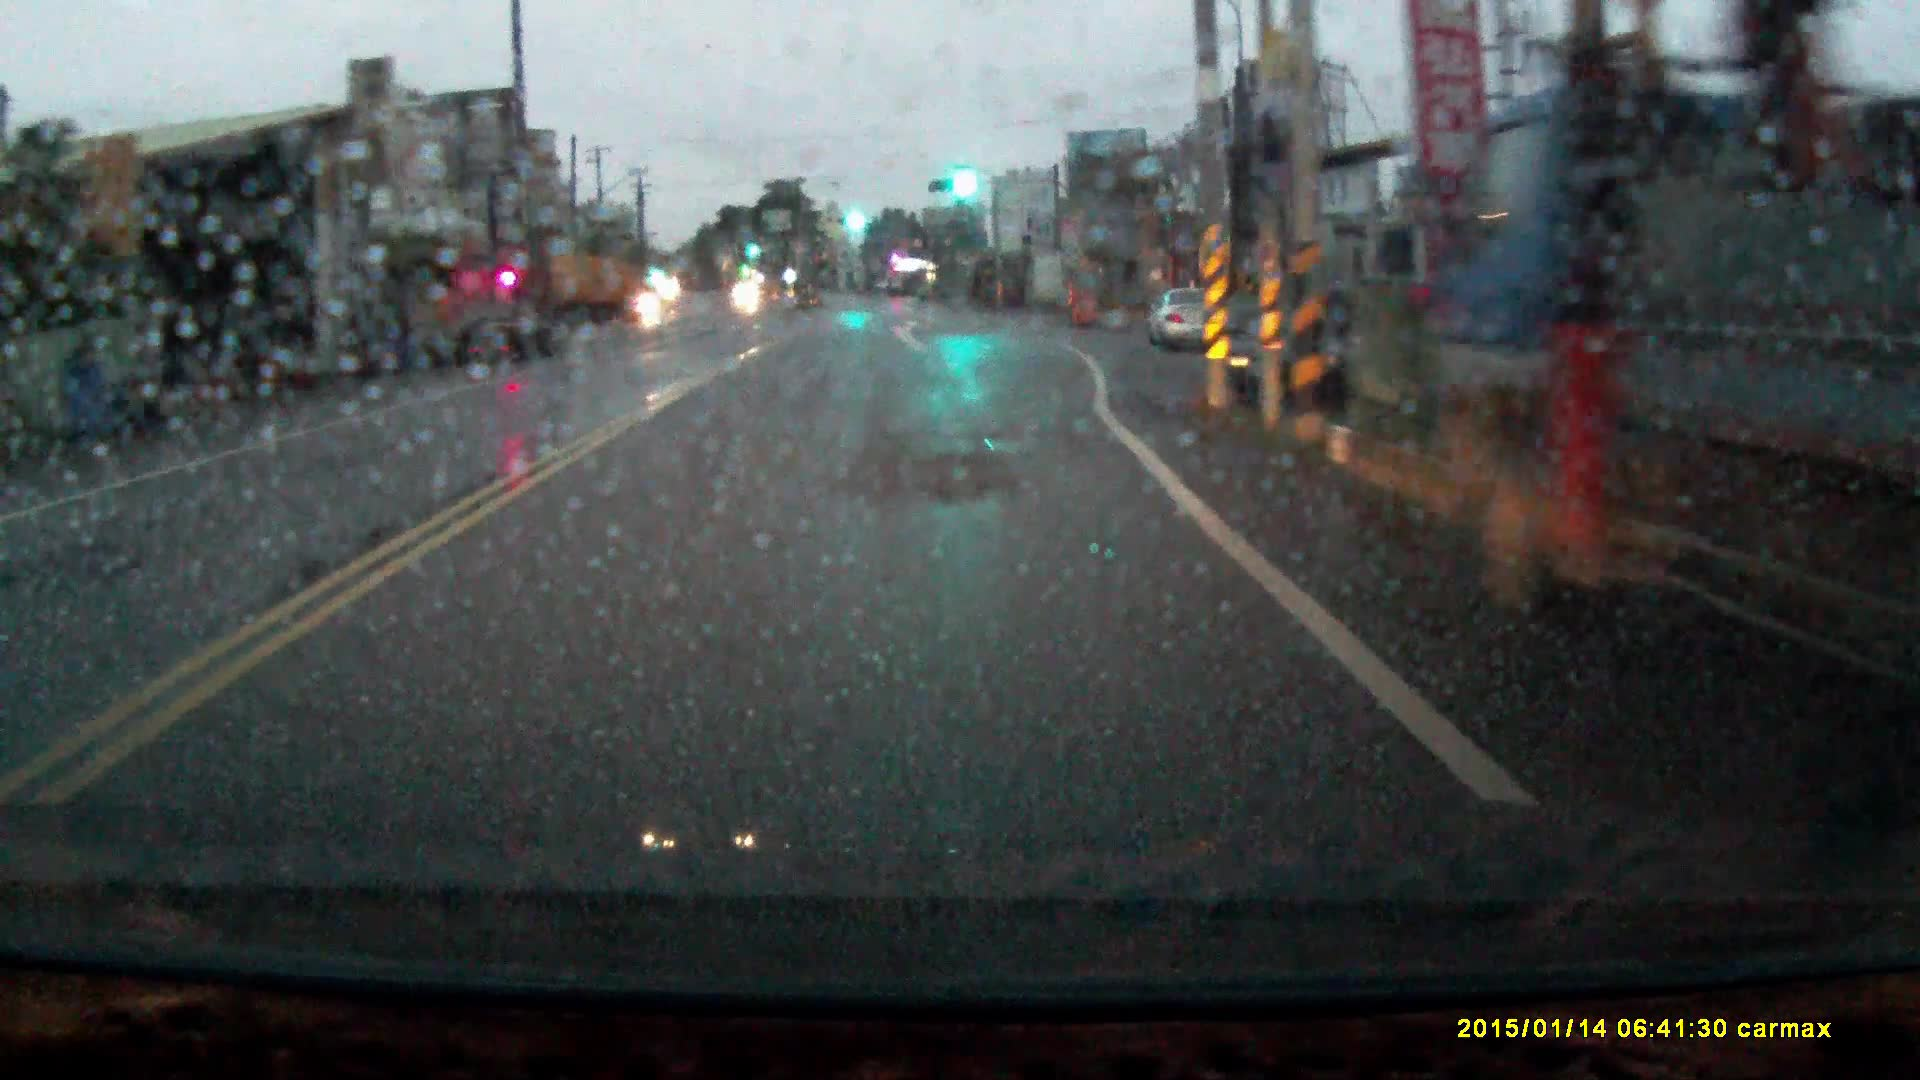vehicle: (1203, 291, 1340, 411), (522, 258, 640, 326), (458, 302, 563, 369), (1146, 287, 1207, 349)
